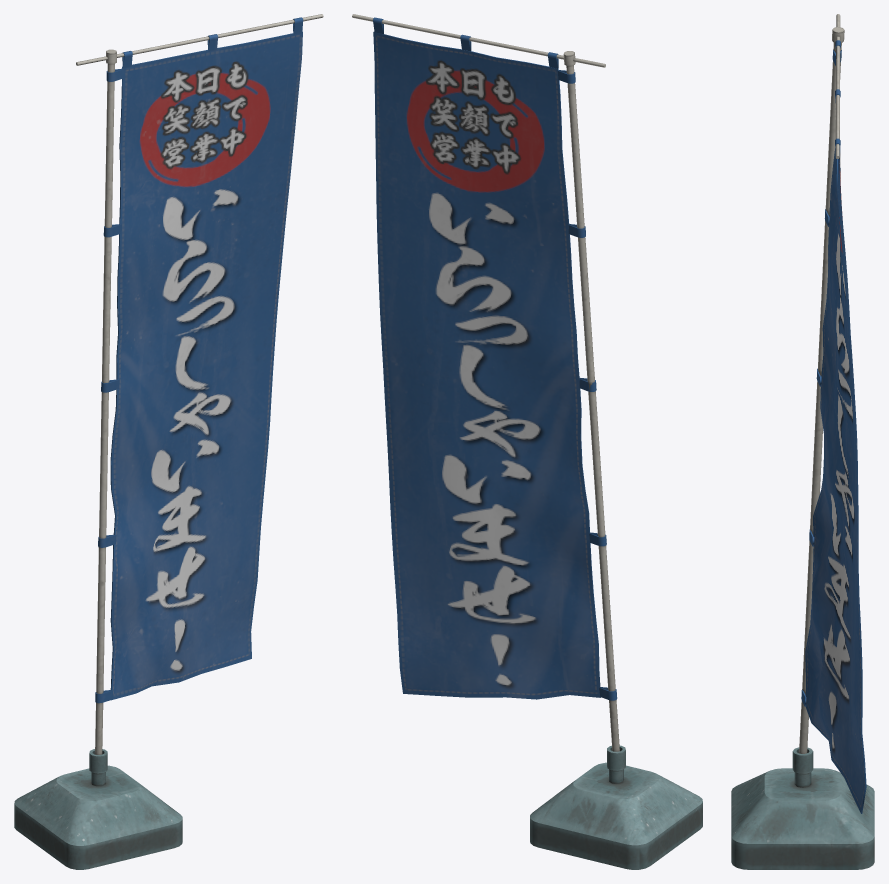
File: bannerflagC.fbx
The picture shows the model from 3 angles, left to right: view 1: azimuth 30°, elevation 25°; view 2: azimuth 150°, elevation 25°; view 3: azimuth 270°, elevation 25°; orthographic projection. The views are drawn at different scales.
Visible parts, largest first — view 1: bannerflagC; view 2: bannerflagC; view 3: bannerflagC.
Boxes of the visible parts, box(x1,y1,x2,y2) form: bannerflagC: box(14, 14, 323, 869); bannerflagC: box(352, 14, 702, 869); bannerflagC: box(731, 14, 874, 869).
Size of the model in its own units: 90.8 by 223 by 35.
1 material, 1 textured.
